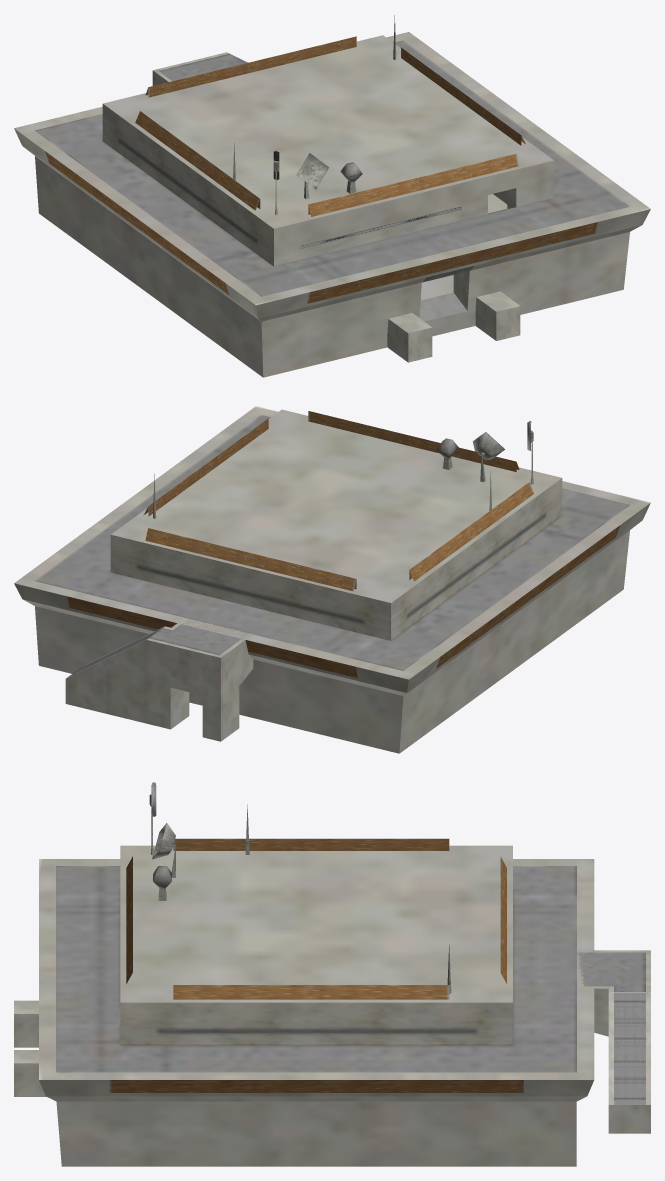
File: mun_all_military_base_police_station_rebl_s01_r0_mesh_l2_r0.fbx
3 renders of one model, top to bottom at view 1: azimuth 30°, elevation 25°; view 2: azimuth 150°, elevation 25°; view 3: azimuth 270°, elevation 25°, orthographic. The views are drawn at different scales.
Visible parts, largest first — view 1: mesh_node; view 2: mesh_node; view 3: mesh_node.
Part boxes in pixels (x1=…): mesh_node: x1=14, y1=15, x2=650, y2=377; mesh_node: x1=14, y1=406, x2=650, y2=753; mesh_node: x1=14, y1=782, x2=650, y2=1166.
Bounding box in the file's own units: 49.31 × 22.07 × 60.
Materials: 1 (1 with a texture image).
